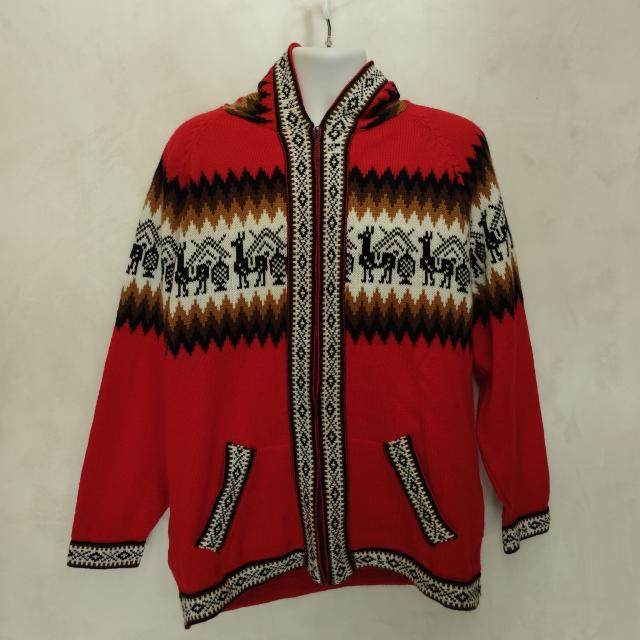Chompa: (67, 41, 552, 628)
